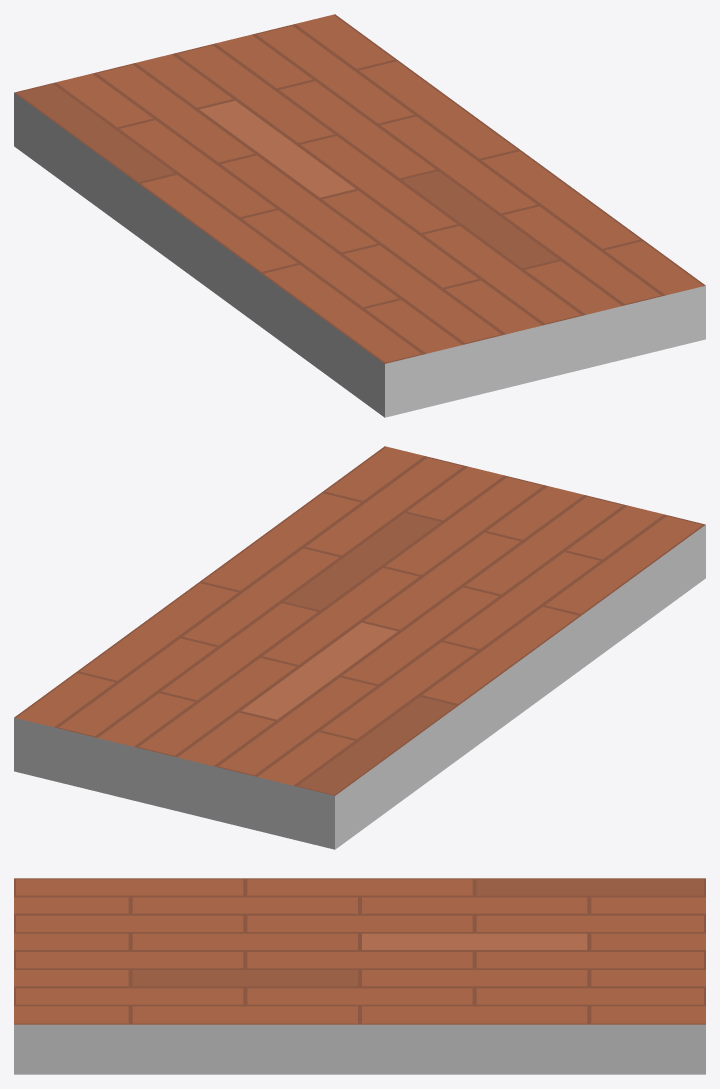
The model's file is Floor10_02.fbx.
3 renders of one model, top to bottom at view 1: azimuth 30°, elevation 25°; view 2: azimuth 150°, elevation 25°; view 3: azimuth 270°, elevation 25°, orthographic. The views are drawn at different scales.
Parts seen in each view (by area): view 1: Floor10_02; view 2: Floor10_02; view 3: Floor10_02.
Boxes of the visible parts, bbox=[...] form: Floor10_02: bbox=[14, 14, 705, 417]; Floor10_02: bbox=[14, 446, 705, 849]; Floor10_02: bbox=[14, 878, 705, 1074].
Bounding box in the file's own units: 125 × 20 × 250.
